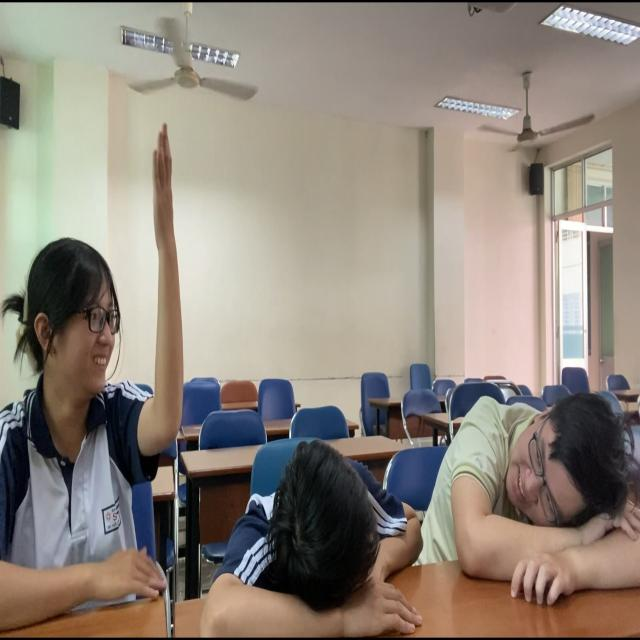raise_hand: (1, 116, 190, 640)
sleep: (216, 411, 422, 636), (433, 378, 640, 596)
